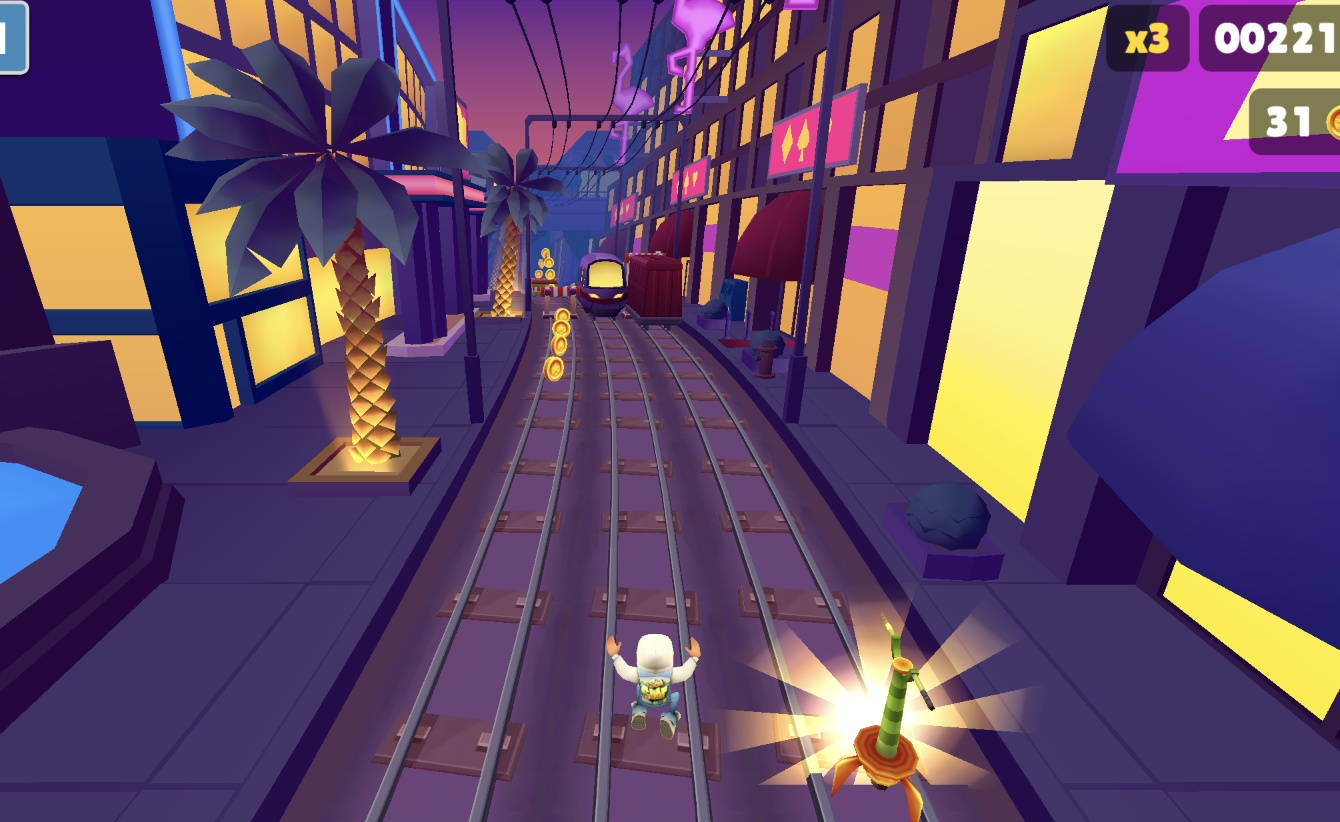ground_barrier: (552, 287, 582, 321), (532, 282, 556, 300)
overhead_barrier: (626, 251, 666, 286)
train: (628, 255, 687, 326), (581, 254, 629, 318)
